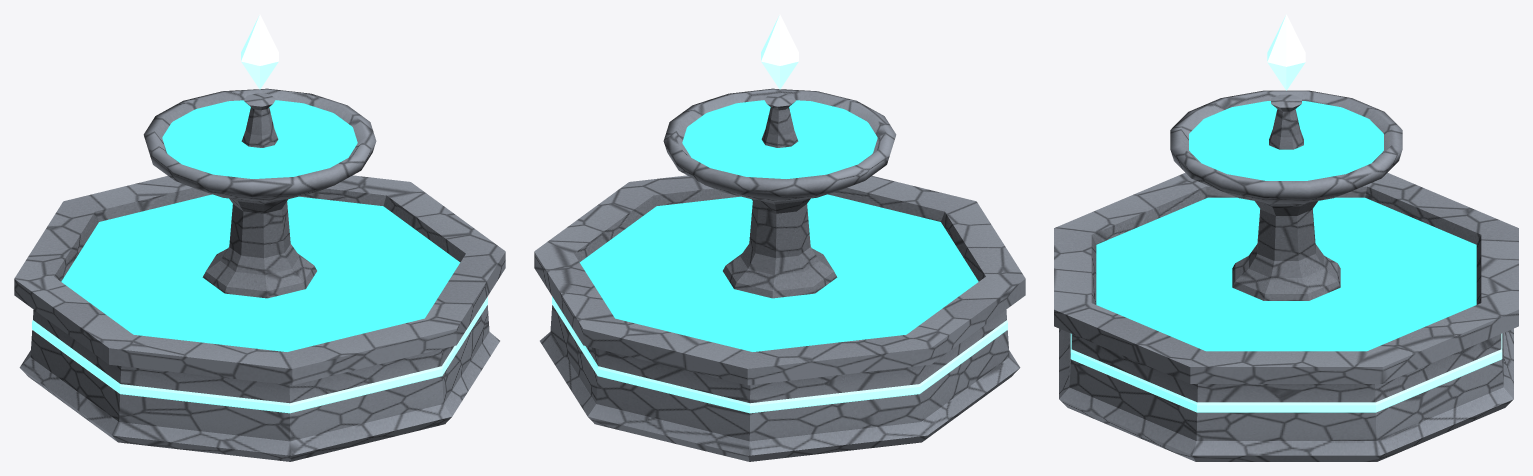
Rendered from RecoveryFountain.glb.
3 renders of one model, left to right at view 1: azimuth 30°, elevation 25°; view 2: azimuth 150°, elevation 25°; view 3: azimuth 270°, elevation 25°, orthographic.
Visible parts, largest first — view 1: FountainStone, FountainWater, FountainRunes, Crystal; view 2: FountainStone, FountainWater, FountainRunes, Crystal; view 3: FountainStone, FountainWater, FountainRunes, Crystal.
Boxes of the visible parts, x1,y1,x2,y2 form: FountainStone: [14, 88, 505, 461]; FountainWater: [61, 100, 460, 351]; FountainRunes: [32, 296, 487, 413]; Crystal: [241, 14, 278, 89]; FountainStone: [534, 88, 1025, 461]; FountainWater: [579, 100, 978, 351]; FountainRunes: [552, 296, 1007, 413]; Crystal: [761, 14, 798, 89]; FountainStone: [1054, 90, 1518, 461]; FountainWater: [1096, 101, 1476, 351]; FountainRunes: [1070, 333, 1502, 412]; Crystal: [1267, 14, 1305, 90].
Size of the model in its own units: 2.51 by 2.12 by 2.51.
Materials: 4 (1 with a texture image).
